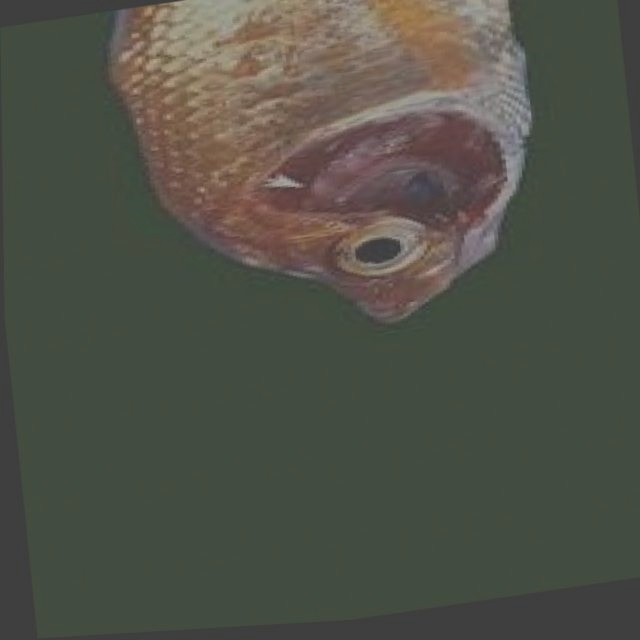Gill Disease: (110, 8, 540, 327)
